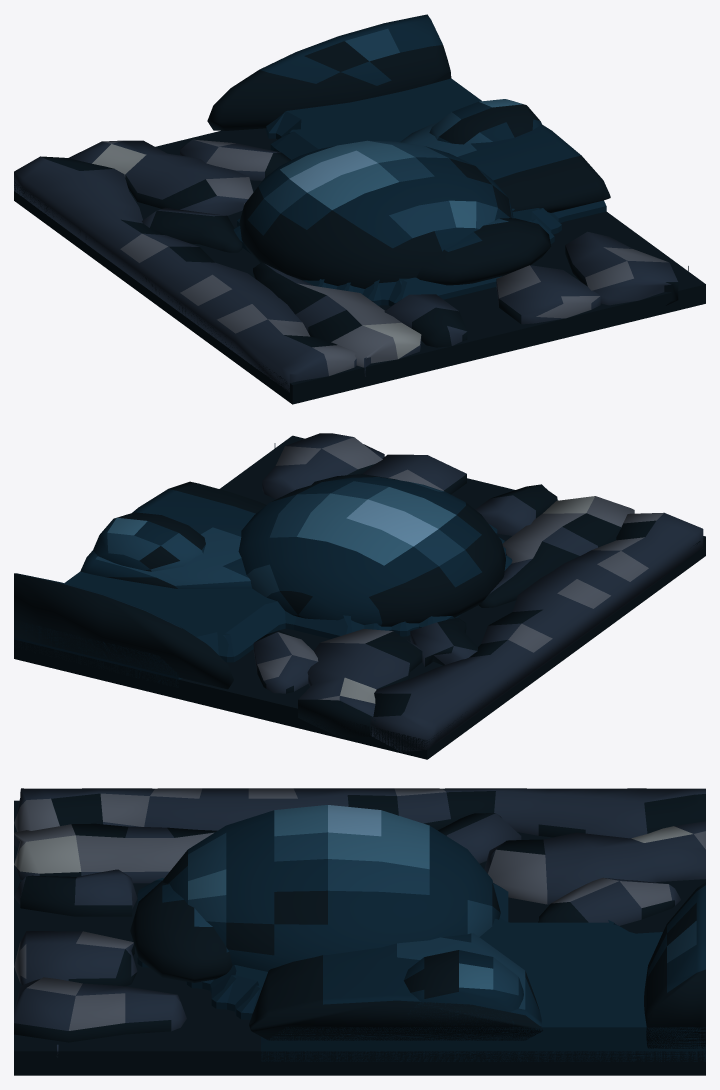
File: newshh-119.glb
3 renders of one model, top to bottom at view 1: azimuth 30°, elevation 25°; view 2: azimuth 150°, elevation 25°; view 3: azimuth 270°, elevation 25°, orthographic. The views are drawn at different scales.
Visible parts, largest first — view 1: newshh-119; view 2: newshh-119; view 3: newshh-119.
Boxes of the visible parts, x1,y1,x2,y2 form: newshh-119: (14,14,705,404); newshh-119: (14,433,705,759); newshh-119: (14,788,705,1075).
Bounding box in the file's own units: 2 × 0.45 × 2.33.
